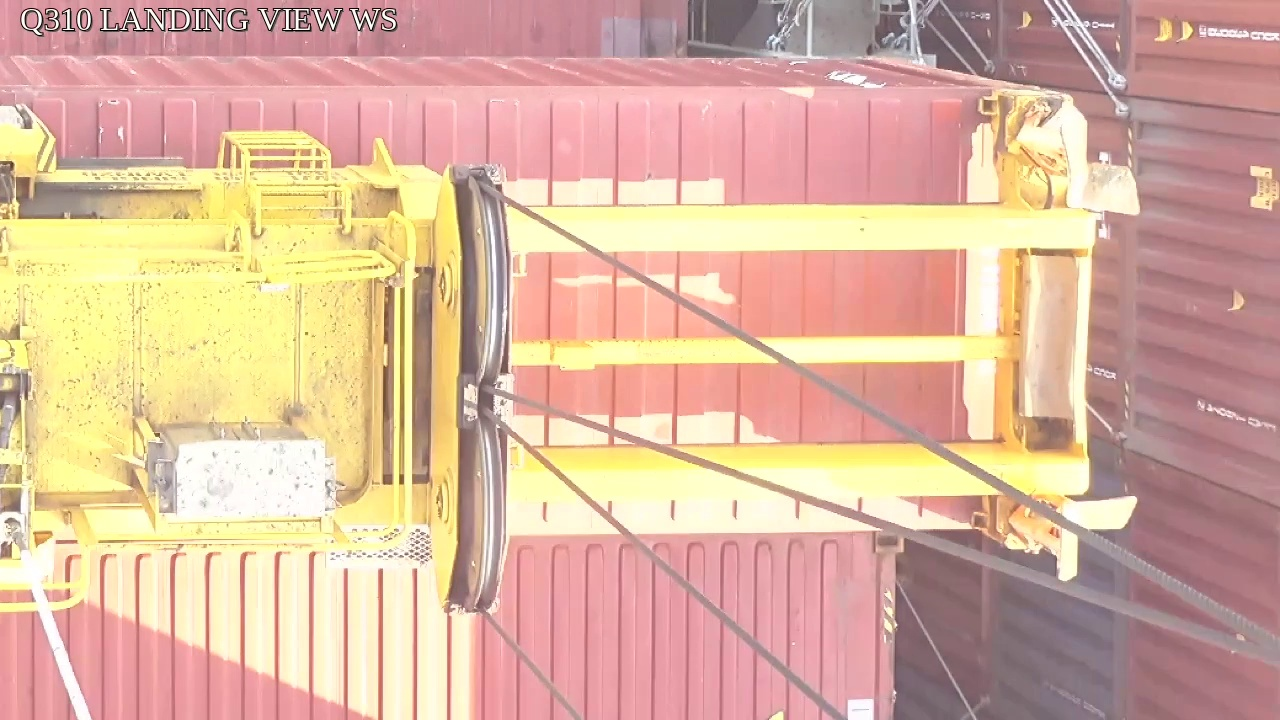right: (437, 163, 516, 619)
